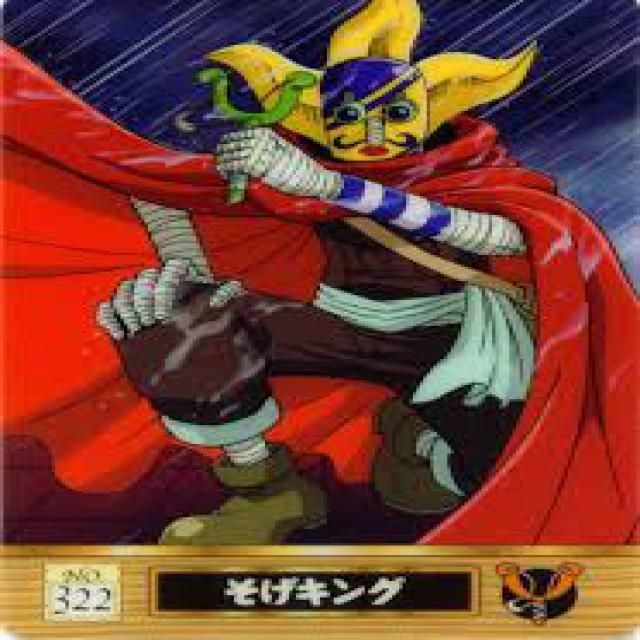Usopp: (0, 0, 640, 543)
